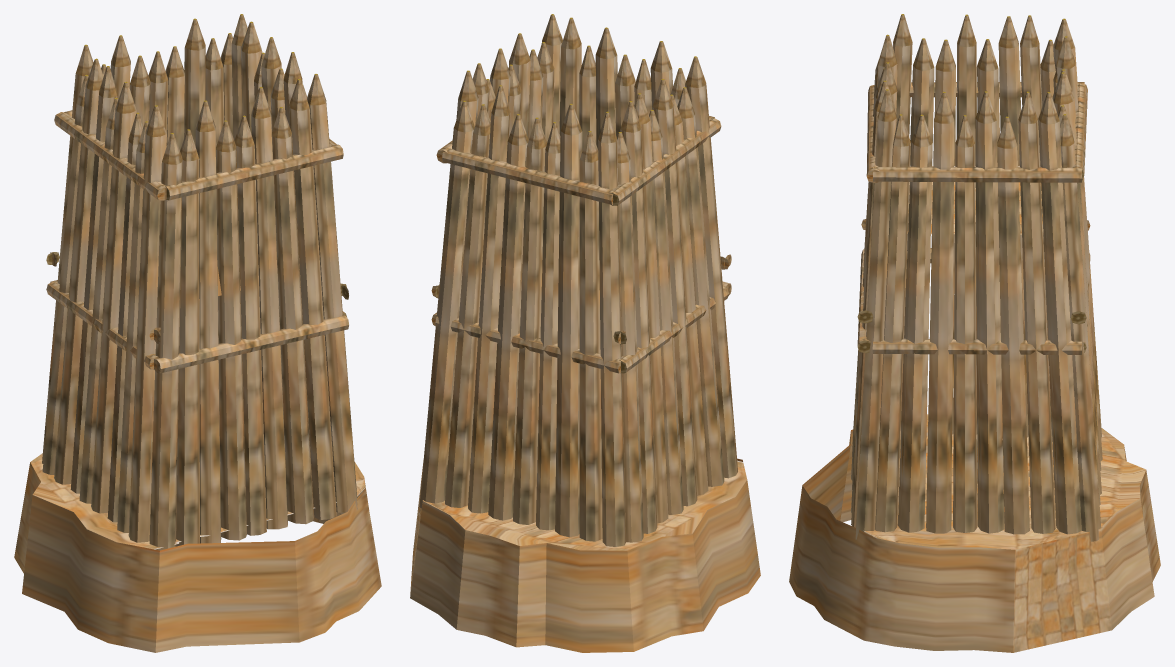
The model's file is wall_tower.dae.
The picture shows the model from 3 angles, left to right: view 1: azimuth 30°, elevation 25°; view 2: azimuth 150°, elevation 25°; view 3: azimuth 270°, elevation 25°; orthographic projection. The views are drawn at different scales.
Parts seen in each view (by area): view 1: wall_tower; view 2: wall_tower; view 3: wall_tower.
Part boxes in pixels (x1,y1,x2,y2): wall_tower: [14, 14, 381, 652]; wall_tower: [410, 14, 760, 652]; wall_tower: [789, 14, 1160, 652].
Bounding box in the file's own units: 10.48 × 11.01 × 17.12.
